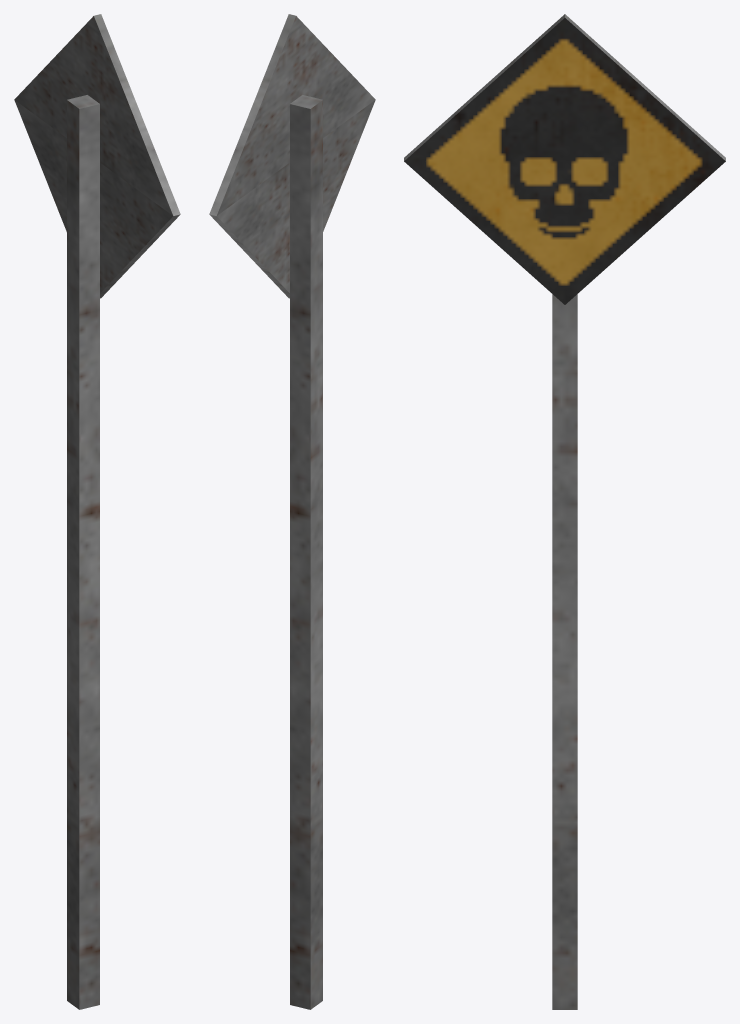
Rendered from Sign_20.fbx.
3 renders of one model, left to right at view 1: azimuth 30°, elevation 25°; view 2: azimuth 150°, elevation 25°; view 3: azimuth 270°, elevation 25°, orthographic.
Visible parts, largest first — view 1: Sign_20; view 2: Sign_20; view 3: Sign_20.
Boxes of the visible parts, <box> form: Sign_20: <box>14,14,180,1009</box>; Sign_20: <box>209,14,375,1009</box>; Sign_20: <box>404,14,725,1009</box>.
Bounding box in the file's own units: 5.76 × 193 × 56.65.
